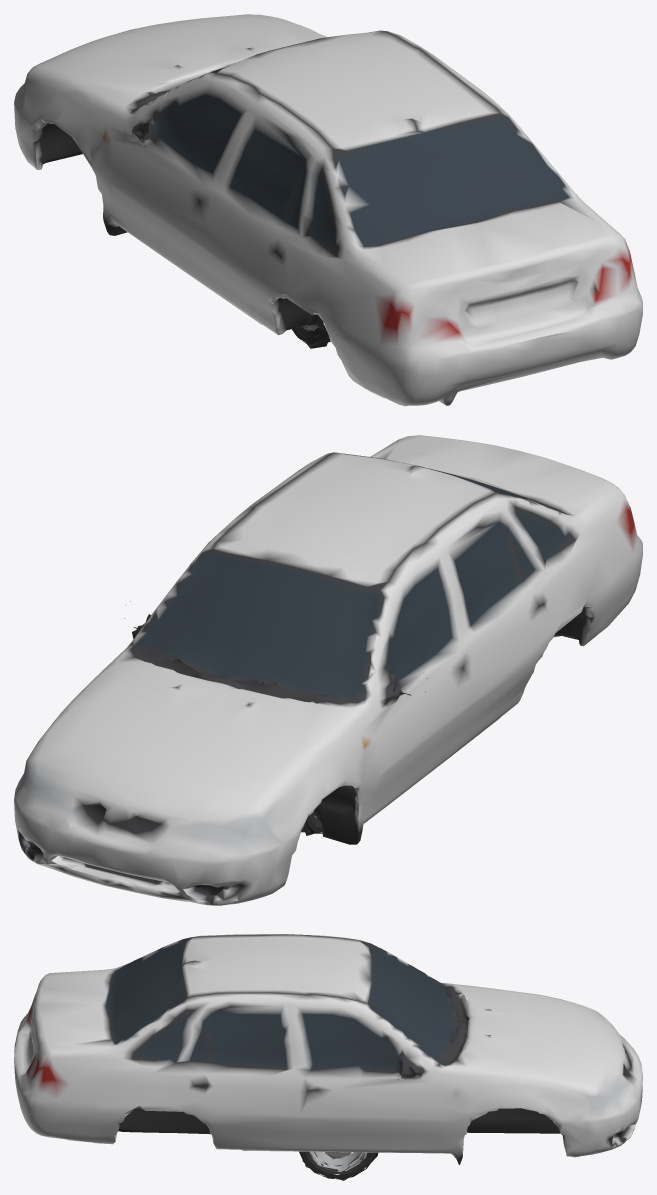
Rendered from nexia2_npc.glb.
3 views of the same model, one above another, from view 1: azimuth 30°, elevation 25°; view 2: azimuth 150°, elevation 25°; view 3: azimuth 270°, elevation 25° (orthographic). The views are drawn at different scales.
Visible parts, largest first — view 1: CarParked, NpcWheel; view 2: CarParked; view 3: CarParked, NpcWheel.
Boxes of the visible parts, x1=… form: CarParked: x1=14, y1=14, x2=642, y2=406; NpcWheel: x1=292, y1=325, x2=330, y2=348; CarParked: x1=14, y1=435, x2=642, y2=905; CarParked: x1=14, y1=934, x2=642, y2=1164; NpcWheel: x1=299, y1=1151, x2=378, y2=1180.
Size of the model in its own units: 1.83 by 1.8 by 4.48.
